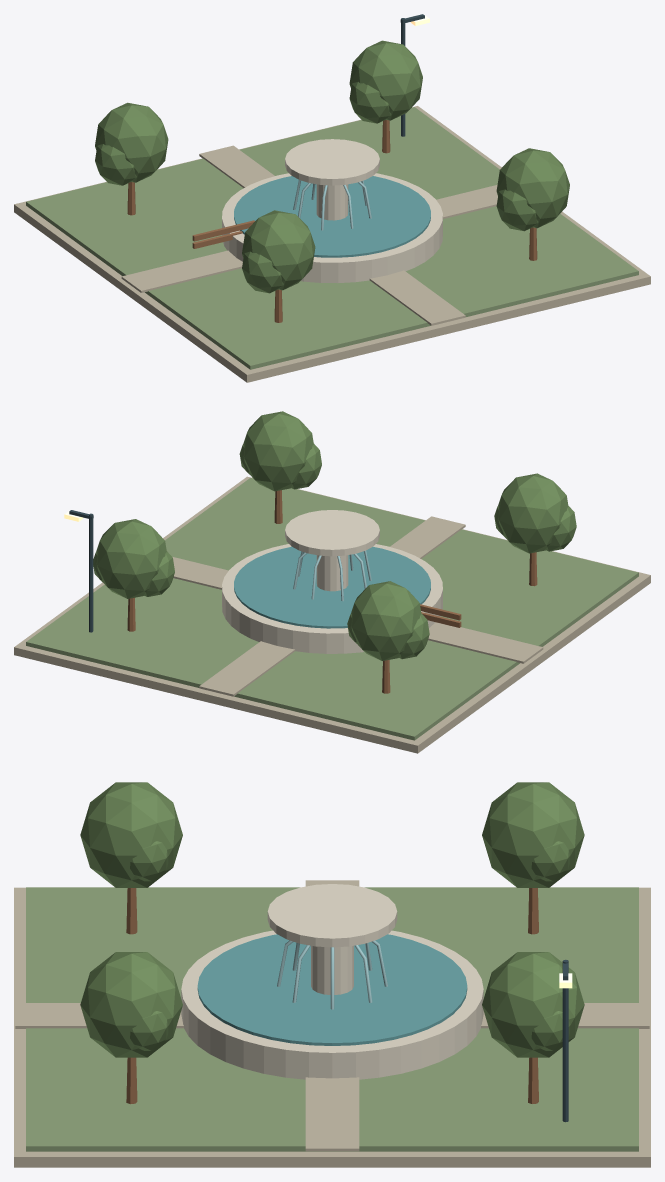
File: plaza_lod.glb
3 renders of one model, top to bottom at view 1: azimuth 30°, elevation 25°; view 2: azimuth 150°, elevation 25°; view 3: azimuth 270°, elevation 25°, orthographic. The views are drawn at different scales.
Parts seen in each view (by area): view 1: plaza_Garden_Lawn, plaza_Site_Paving, plaza_Fountain_Water, plaza_Fountain_Basin, plaza_Garden_Walk_Z, plaza_Fountain_Tier, plaza_Tree_Crown, plaza_Tree_Crown.009, plaza_Tree_Crown.003, plaza_Tree_Crown.006, plaza_Garden_Walk_X, plaza_Tree_Crown.010 (+4 smaller); view 2: plaza_Garden_Lawn, plaza_Site_Paving, plaza_Fountain_Water, plaza_Fountain_Basin, plaza_Tree_Crown.003, plaza_Tree_Crown, plaza_Tree_Crown.006, plaza_Tree_Crown.009, plaza_Garden_Walk_Z, plaza_Fountain_Tier, plaza_Garden_Walk_X, plaza_Fountain_Centre (+5 smaller); view 3: plaza_Garden_Lawn, plaza_Fountain_Water, plaza_Site_Paving, plaza_Fountain_Basin, plaza_Tree_Crown.006, plaza_Tree_Crown, plaza_Tree_Crown.003, plaza_Tree_Crown.009, plaza_Fountain_Tier, plaza_Garden_Walk_X, plaza_Garden_Walk_Z, plaza_Fountain_Centre (+5 smaller).
Boxes of the visible parts, bbox=[...] form: plaza_Garden_Lawn: bbox=[26, 107, 638, 369]; plaza_Site_Paving: bbox=[14, 106, 650, 382]; plaza_Fountain_Water: bbox=[234, 176, 430, 257]; plaza_Fountain_Basin: bbox=[222, 173, 442, 283]; plaza_Garden_Walk_Z: bbox=[199, 145, 465, 325]; plaza_Fountain_Tier: bbox=[285, 139, 379, 185]; plaza_Tree_Crown: bbox=[95, 102, 168, 182]; plaza_Tree_Crown.009: bbox=[349, 40, 422, 120]; plaza_Tree_Crown.003: bbox=[496, 148, 569, 228]; plaza_Tree_Crown.006: bbox=[242, 210, 315, 290]; plaza_Garden_Walk_X: bbox=[121, 185, 497, 292]; plaza_Tree_Crown.010: bbox=[349, 82, 391, 123]; plaza_Garden_Lawn: bbox=[26, 478, 638, 740]; plaza_Site_Paving: bbox=[14, 476, 650, 753]; plaza_Fountain_Water: bbox=[234, 546, 430, 628]; plaza_Fountain_Basin: bbox=[222, 544, 442, 653]; plaza_Tree_Crown.003: bbox=[243, 411, 313, 491]; plaza_Tree_Crown: bbox=[351, 581, 421, 660]; plaza_Tree_Crown.006: bbox=[498, 473, 568, 553]; plaza_Tree_Crown.009: bbox=[96, 519, 166, 598]; plaza_Garden_Walk_Z: bbox=[199, 516, 465, 696]; plaza_Fountain_Tier: bbox=[285, 510, 379, 556]; plaza_Garden_Walk_X: bbox=[172, 557, 543, 663]; plaza_Fountain_Centre: bbox=[316, 555, 348, 591]; plaza_Garden_Lawn: bbox=[26, 887, 638, 1151]; plaza_Fountain_Water: bbox=[197, 934, 467, 1045]; plaza_Site_Paving: bbox=[14, 887, 650, 1167]; plaza_Fountain_Basin: bbox=[181, 930, 483, 1079]; plaza_Tree_Crown.006: bbox=[80, 782, 182, 887]; plaza_Tree_Crown: bbox=[482, 782, 584, 887]; plaza_Tree_Crown.003: bbox=[80, 952, 182, 1057]; plaza_Tree_Crown.009: bbox=[482, 952, 584, 1057]; plaza_Fountain_Tier: bbox=[267, 884, 397, 947]; plaza_Garden_Walk_X: bbox=[305, 880, 359, 1151]; plaza_Garden_Walk_Z: bbox=[15, 1003, 649, 1028]; plaza_Fountain_Centre: bbox=[311, 945, 353, 994].
Bounding box in the file's own units: 11.8 × 3.6 × 11.8.
